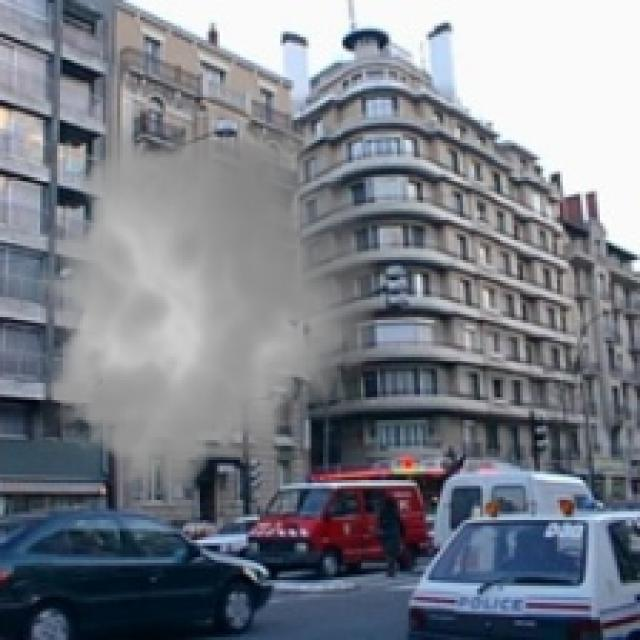smoke: (23, 109, 388, 508)
